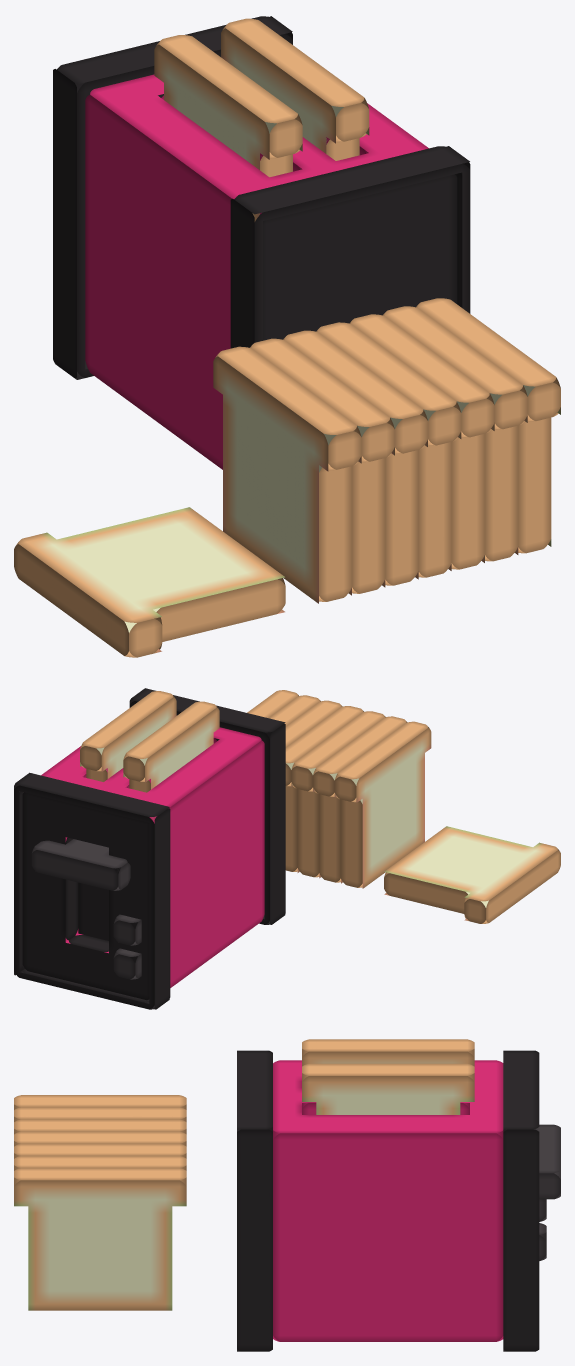
File: toaster.fbx
3 renders of one model, top to bottom at view 1: azimuth 30°, elevation 25°; view 2: azimuth 150°, elevation 25°; view 3: azimuth 270°, elevation 25°, orthographic. The views are drawn at different scales.
Parts seen in each view (by area): view 1: toaster, bread_8, bread_9, bread, bread_1, bread_2, bread_4, bread_5, bread_7, bread_3, bread_6; view 2: toaster, bread_8, bread_9, bread, bread_1, bread_6, bread_7, slider, bread_5, bread_4, botton, botton_1 (+2 smaller); view 3: toaster, bread_2, bread_1, bread, bread_4, bread_8, bread_6, bread_5, bread_7, bread_3, slider.
Boxes of the visible parts, left/top/right/bottom form: toaster: left=53, top=16, right=470, bottom=469; bread_8: left=213, top=346, right=361, bottom=603; bread_9: left=14, top=507, right=285, bottom=657; bread: left=154, top=35, right=302, bottom=221; bread_1: left=221, top=18, right=369, bottom=160; bread_2: left=416, top=298, right=560, bottom=554; bread_4: left=349, top=314, right=494, bottom=570; bread_5: left=316, top=322, right=461, bottom=579; bread_7: left=250, top=338, right=394, bottom=595; bread_3: left=383, top=306, right=527, bottom=562; bread_6: left=283, top=330, right=427, bottom=587; toaster: left=14, top=688, right=285, bottom=1009; bread_8: left=334, top=721, right=431, bottom=888; bread_9: left=384, top=826, right=560, bottom=923; bread: left=123, top=701, right=219, bottom=819; bread_1: left=80, top=691, right=176, bottom=781; bread_6: left=291, top=711, right=385, bottom=878; bread_7: left=313, top=716, right=407, bottom=883; slider: left=31, top=839, right=130, bottom=890; bread_5: left=285, top=706, right=363, bottom=872; bread_4: left=285, top=700, right=342, bottom=769; botton: left=113, top=948, right=141, bottom=979; botton_1: left=113, top=914, right=141, bottom=945; toaster: left=237, top=1050, right=539, bottom=1351; bread_2: left=14, top=1168, right=186, bottom=1310; bread_1: left=302, top=1063, right=474, bottom=1114; bread: left=302, top=1039, right=474, bottom=1066; bread_4: left=14, top=1143, right=186, bottom=1170; bread_8: left=14, top=1095, right=186, bottom=1121; bread_6: left=14, top=1119, right=186, bottom=1145; bread_5: left=14, top=1131, right=186, bottom=1158; bread_7: left=14, top=1107, right=186, bottom=1133; bread_3: left=14, top=1156, right=186, bottom=1185; slider: left=534, top=1124, right=560, bottom=1199.
Size of the model in its own units: 92.19 by 60.94 by 119.
Materials: 1 (1 with a texture image).
